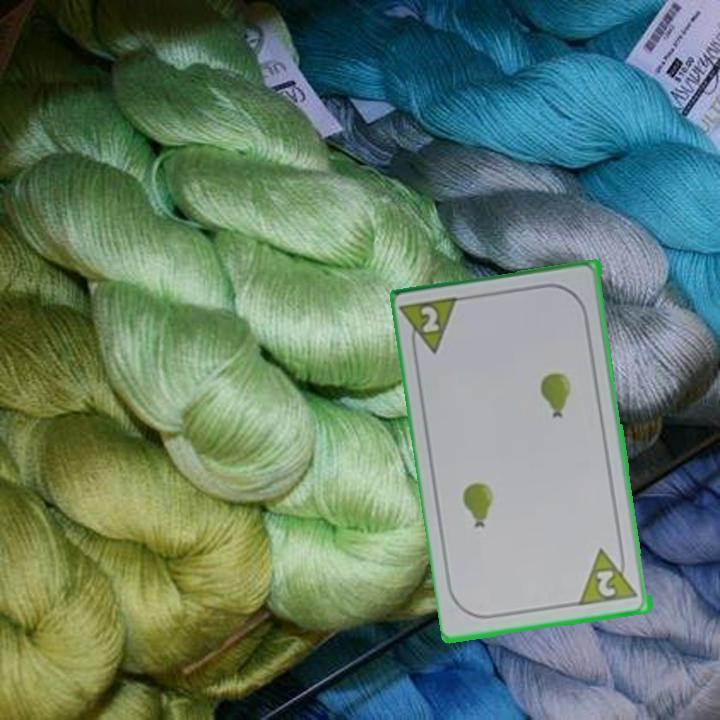2p: (400, 293, 465, 361), (578, 543, 643, 609)
